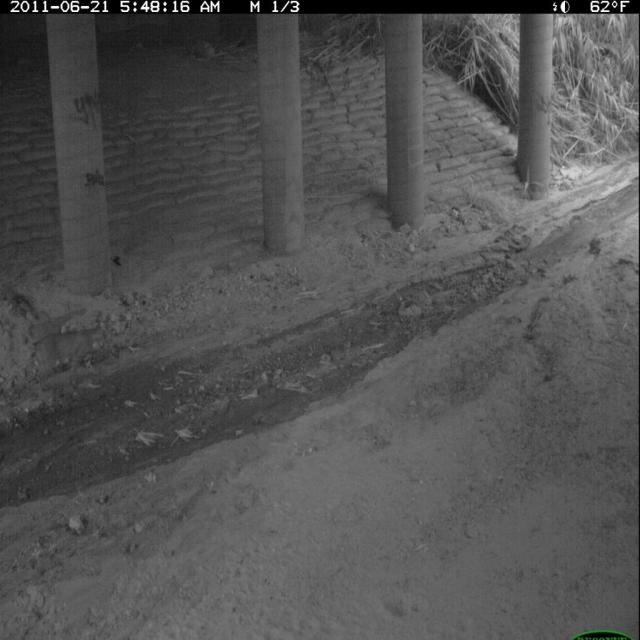bobcat: (27, 321, 108, 395)
